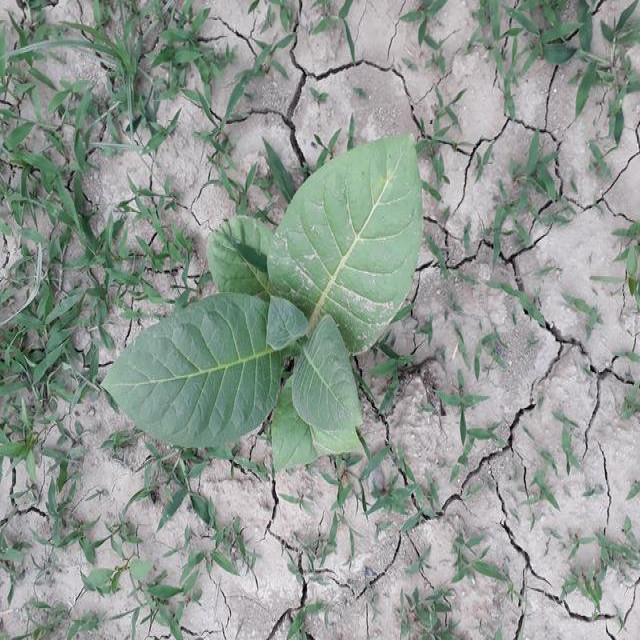crop: (111, 148, 431, 471)
